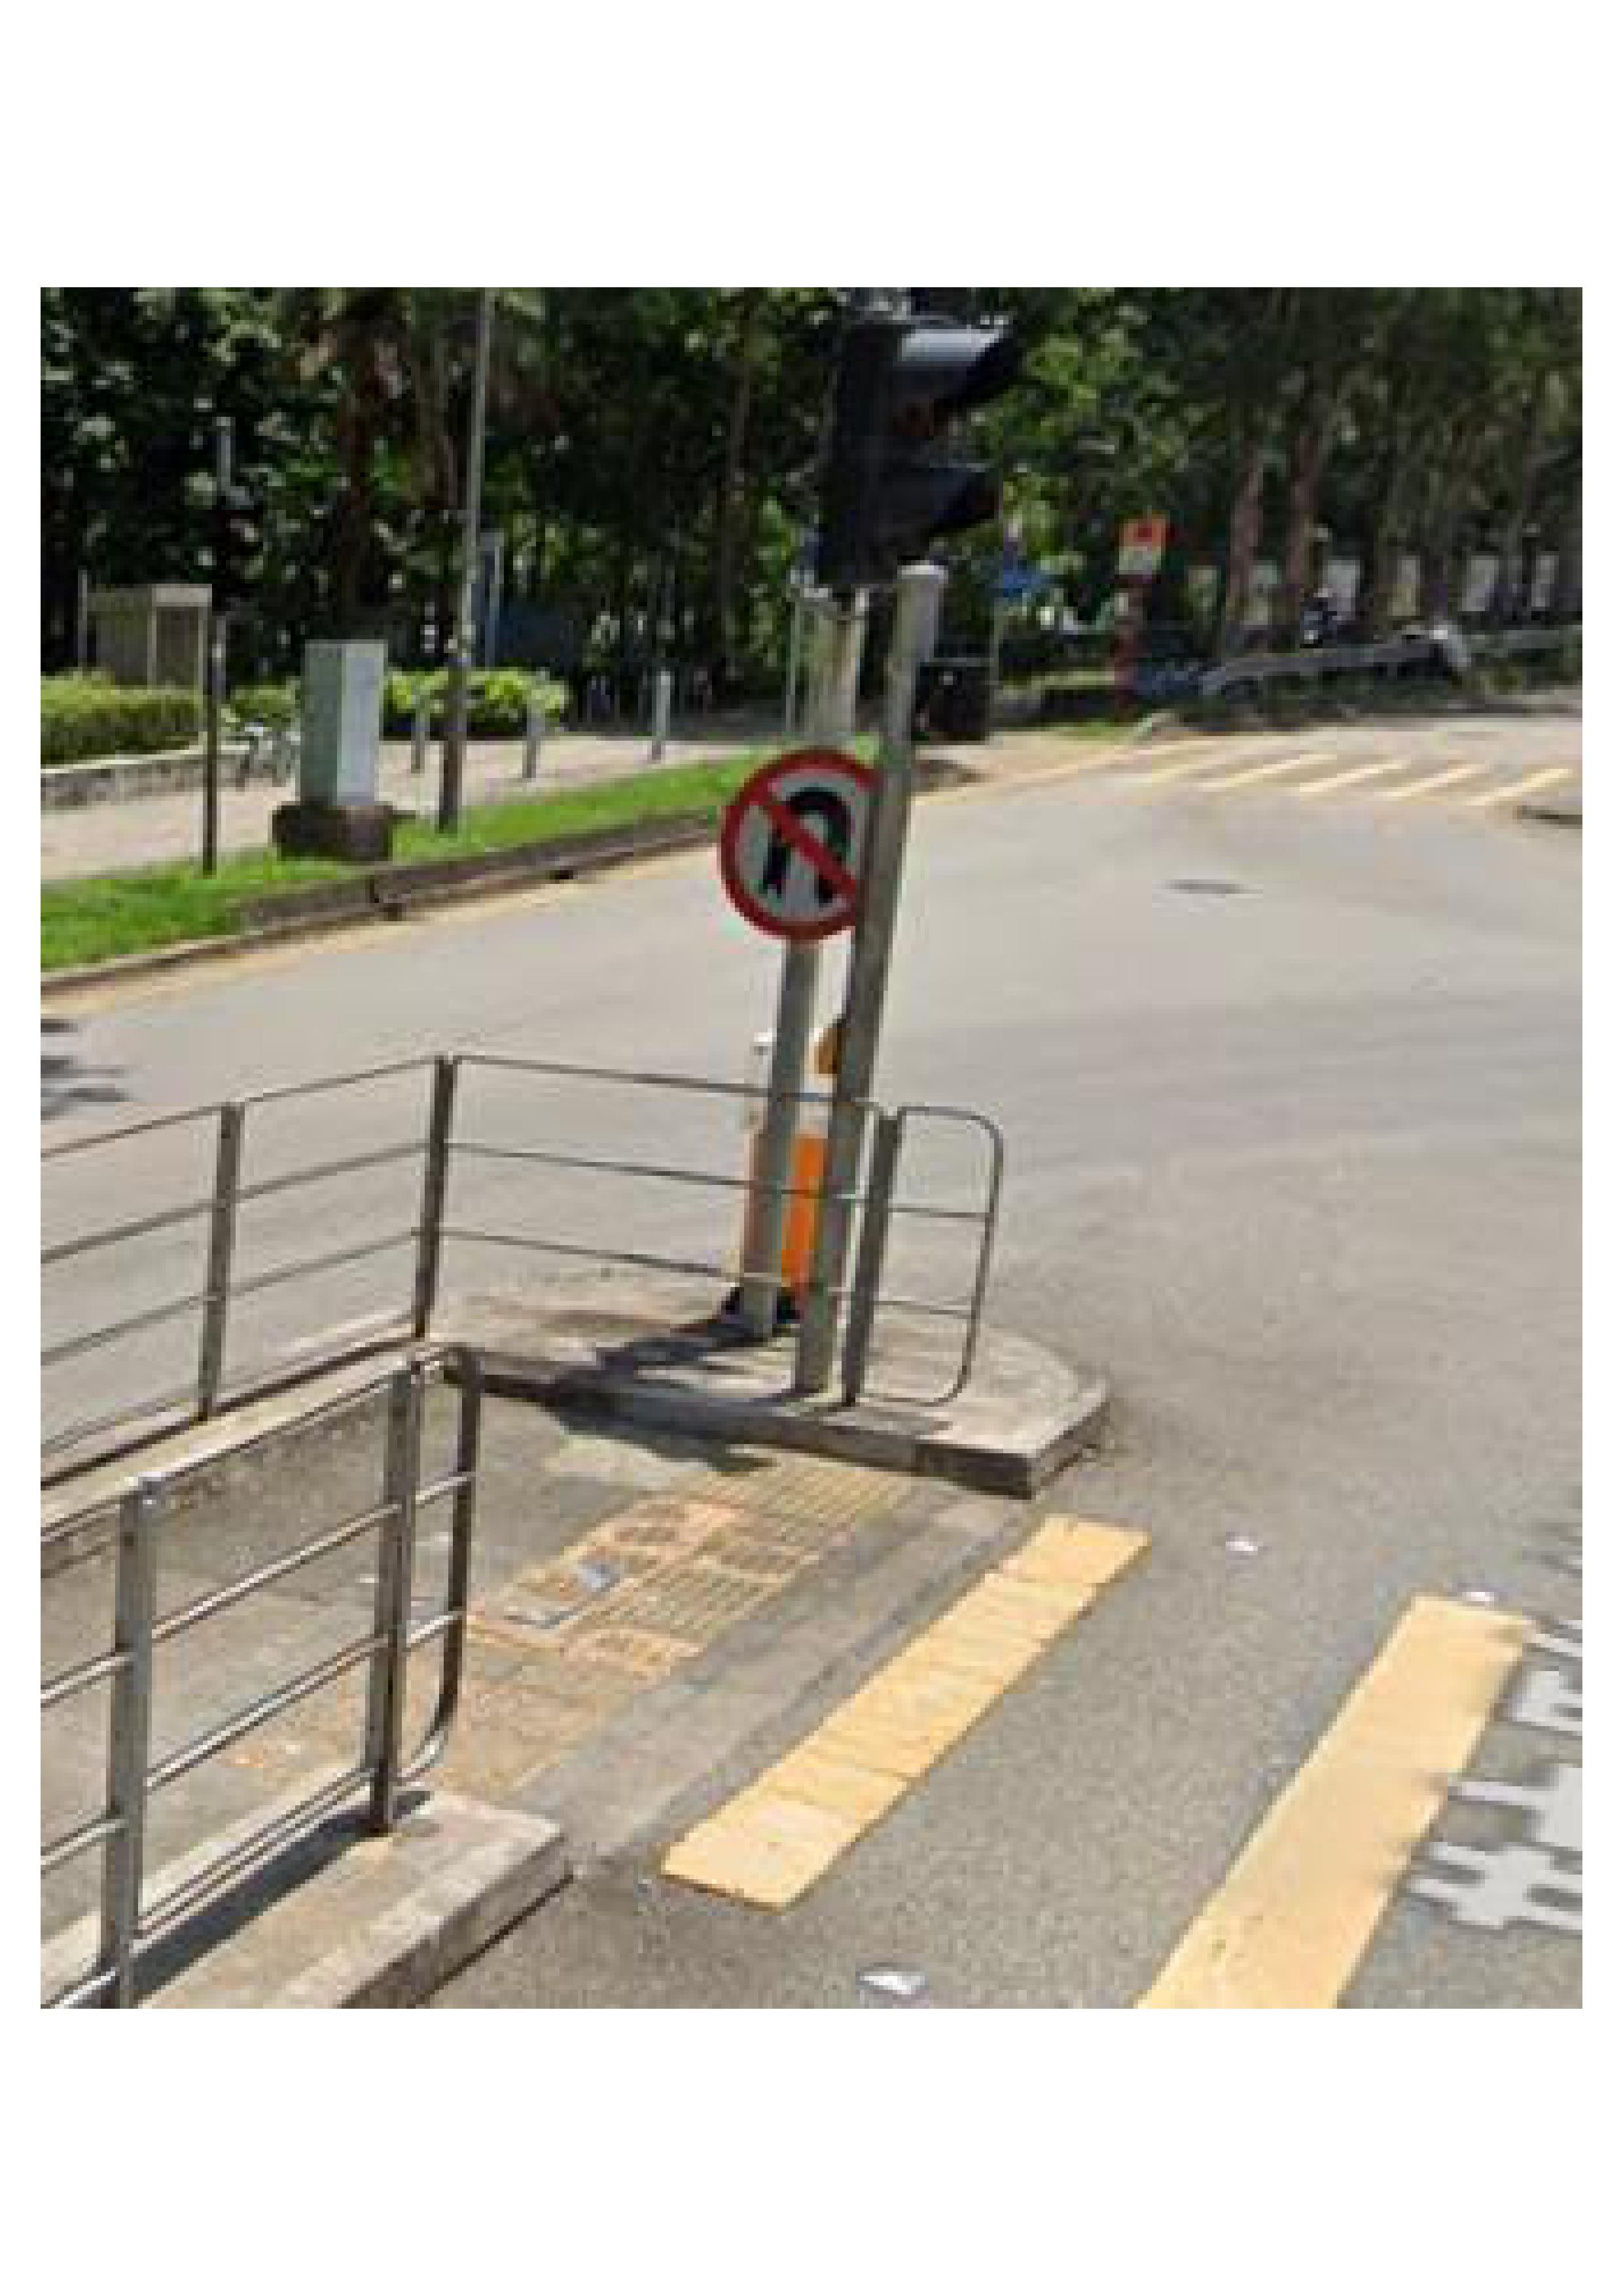No Uturn: (713, 743, 901, 936)
